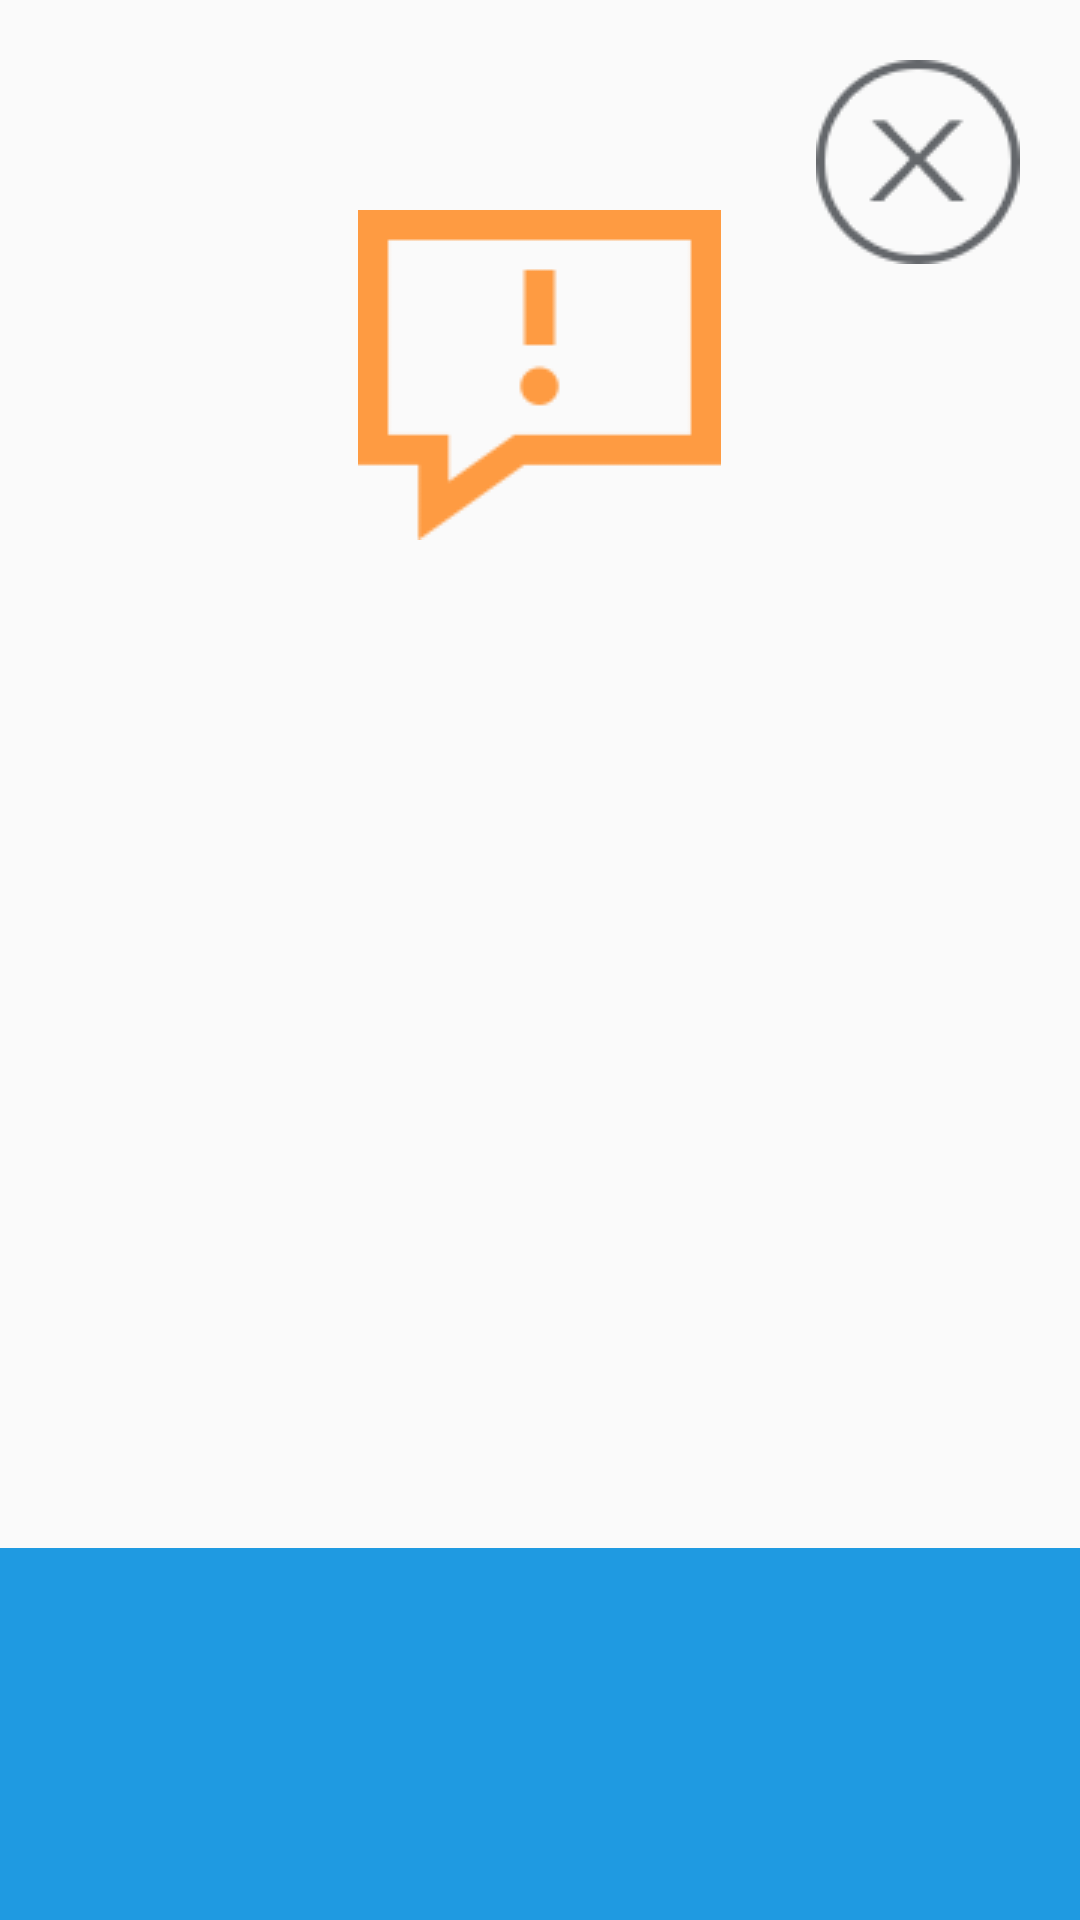

Icon click points for this 1080w x 1920h phone screenshot, format (x=x, y=y):
popup close: (x=918, y=162)
